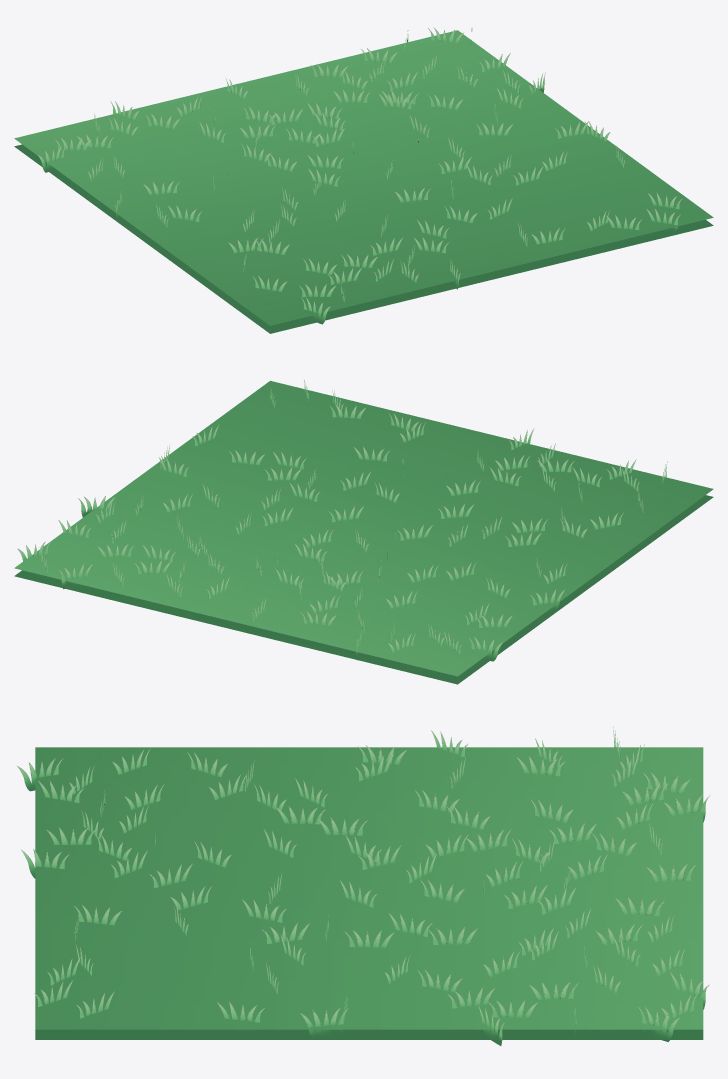
File: lapangan rumput.fbx
3 renders of one model, top to bottom at view 1: azimuth 30°, elevation 25°; view 2: azimuth 150°, elevation 25°; view 3: azimuth 270°, elevation 25°, orthographic. The views are drawn at different scales.
Visible parts, largest first — view 1: Plane, Plane.002; view 2: Plane, Plane.002; view 3: Plane, Plane.002.
Part boxes in pixels (x1,y1,x2,y2): Plane: [14, 27, 713, 325]; Plane.002: [14, 144, 713, 333]; Plane: [14, 380, 713, 676]; Plane.002: [14, 495, 713, 684]; Plane: [17, 726, 709, 1045]; Plane.002: [35, 1029, 703, 1039].
Bounding box in the file's own units: 6.98 × 0.56 × 6.88.
